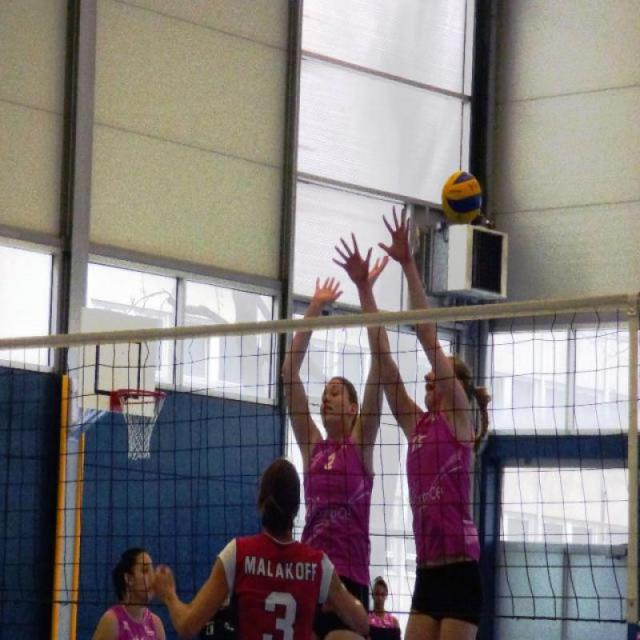volleyball: (440, 169, 486, 224)
